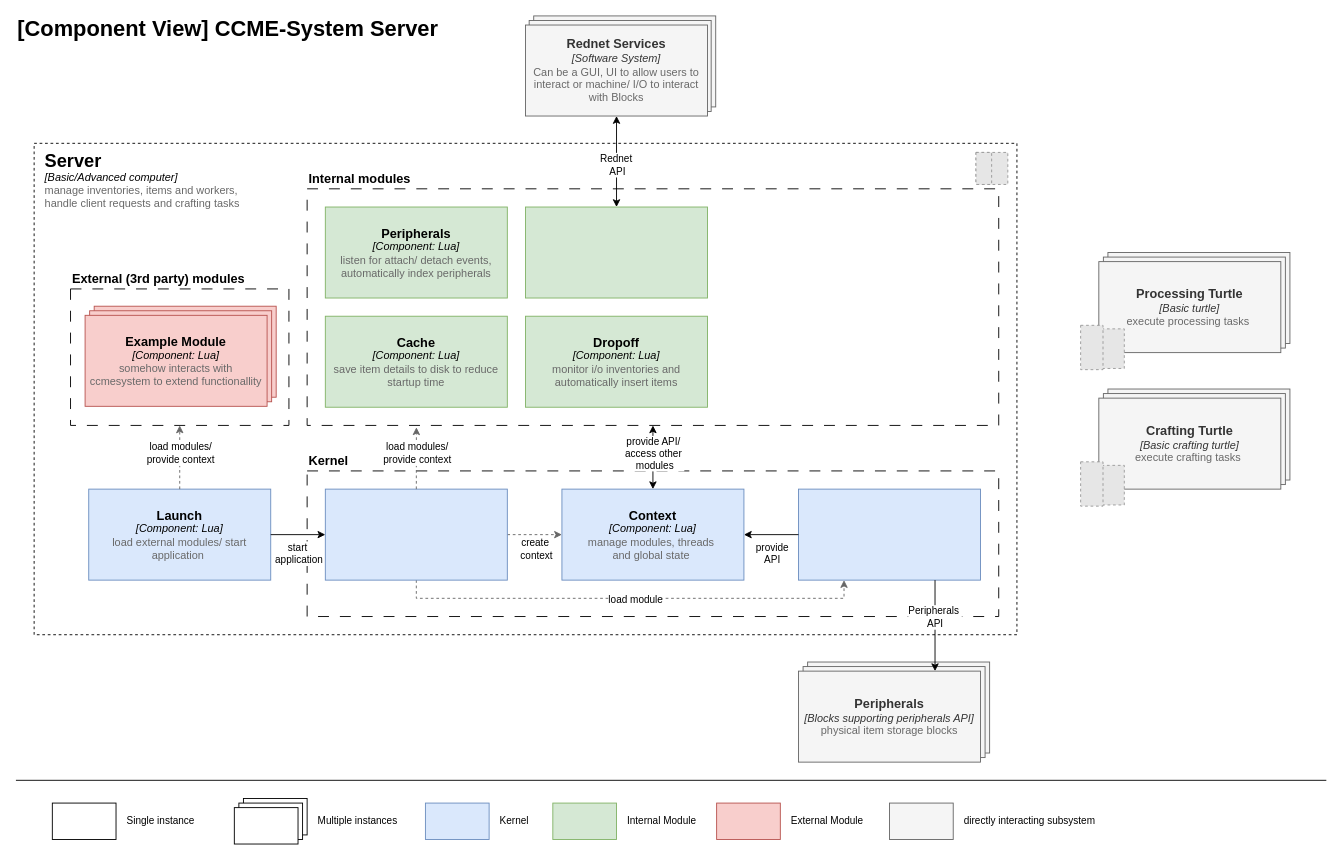
Some shapes in this 1343 by 860 pixel diagram are drawn without their labels. Grey dashed boxes stand in for pictures. Each missing label, with the box of its shape:
Init [Component: Lua] require all modules and start main loop: (324, 488, 507, 580)
Items [Component: Lua] manage peripherals and items: (798, 488, 981, 580)
Rednet [Component: Lua] provide rednet API for client applications: (525, 206, 708, 298)
